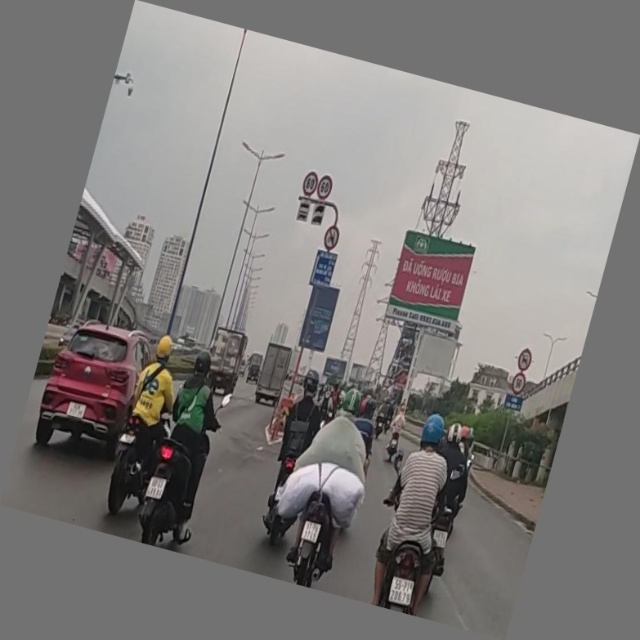P.103a: (516, 347, 533, 372)
P.104: (321, 224, 342, 254)
P.127*50: (511, 371, 528, 398)
P.127*60: (315, 174, 334, 201)
P.127*80: (301, 170, 320, 198)
